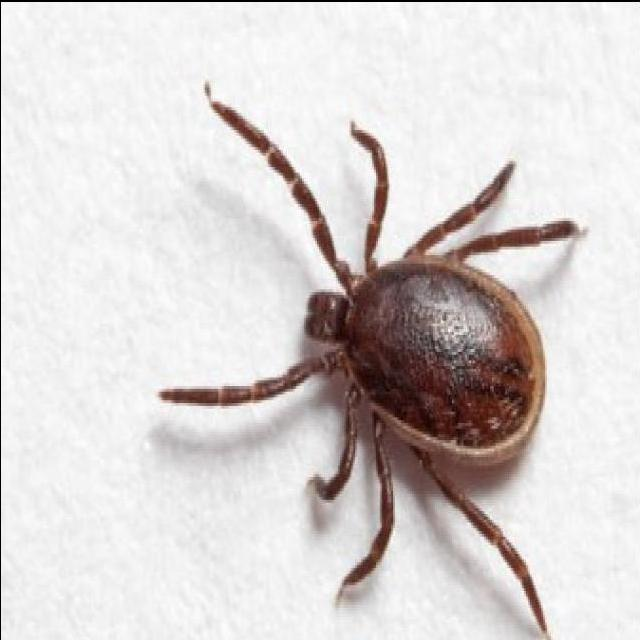Ixodes Ricinus-M: (158, 82, 581, 626)
